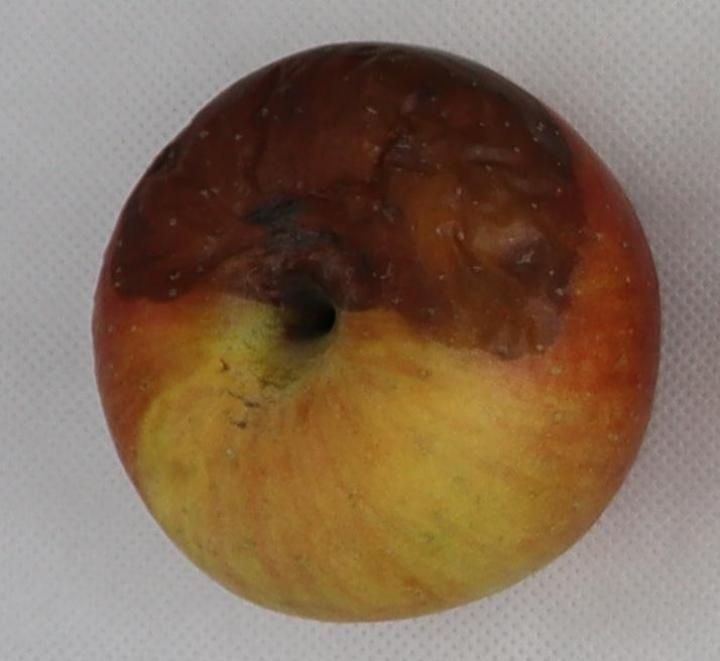apple: (93, 44, 658, 621)
rot_mold_decay: (111, 44, 585, 357)
